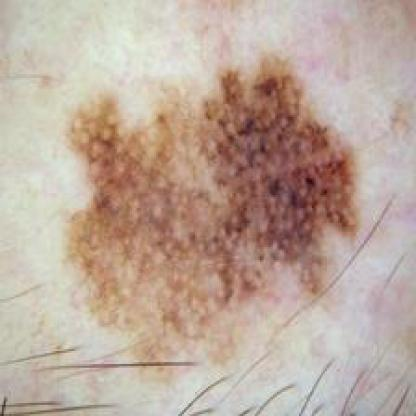malignant: (63, 82, 368, 306)
